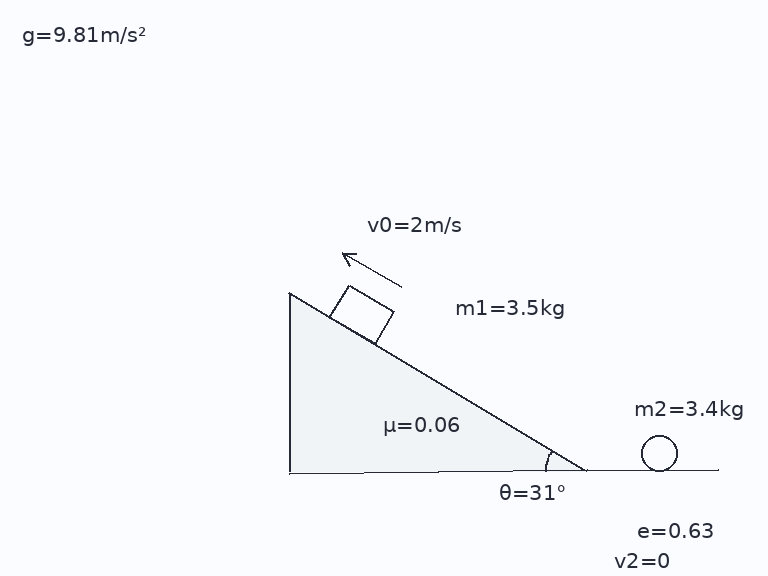ball: (639, 433, 679, 473)
block: (328, 283, 395, 345)
ramp: (287, 291, 588, 473)
